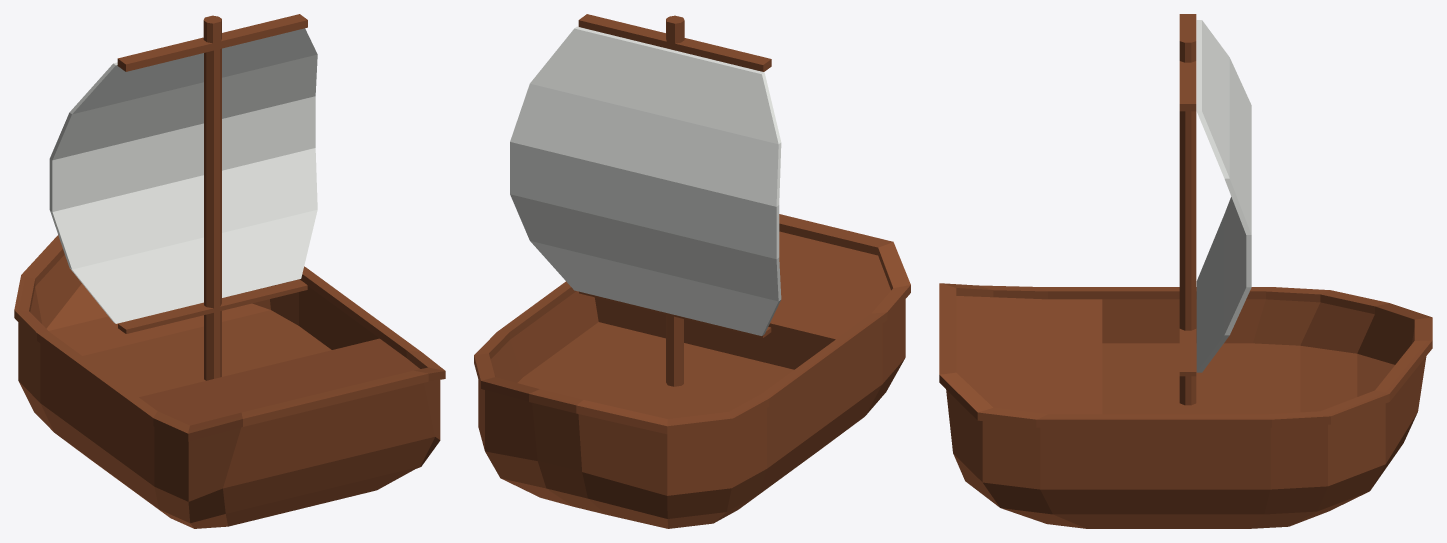
The model's file is ship.glb.
3 views of the same model, side by side, from view 1: azimuth 30°, elevation 25°; view 2: azimuth 150°, elevation 25°; view 3: azimuth 270°, elevation 25° (orthographic).
Visible parts, largest first — view 1: КОРАБЛ; view 2: КОРАБЛ; view 3: КОРАБЛ.
Boxes of the visible parts, box(x1,y1,x2,y2) form: КОРАБЛ: box(14, 14, 445, 528); КОРАБЛ: box(474, 14, 910, 528); КОРАБЛ: box(939, 14, 1432, 528).
Size of the model in its own units: 2.04 by 3.19 by 3.21.
1 material, 1 textured.
